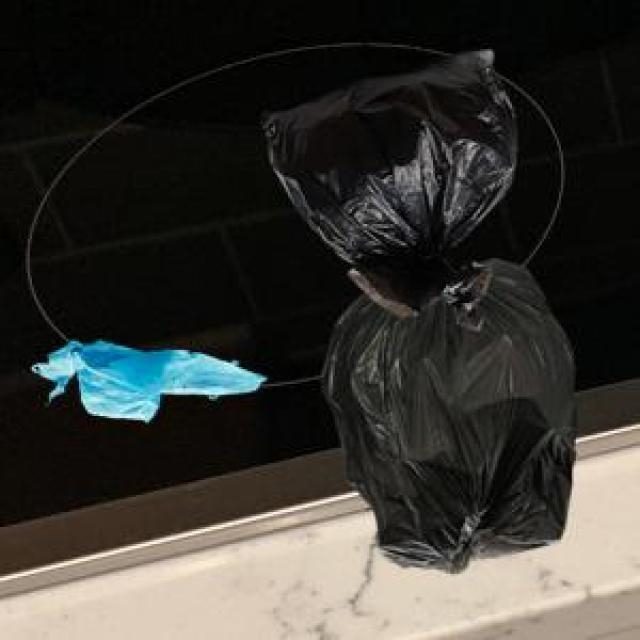miscellaneous trash: (318, 256, 572, 570), (258, 48, 512, 326)
